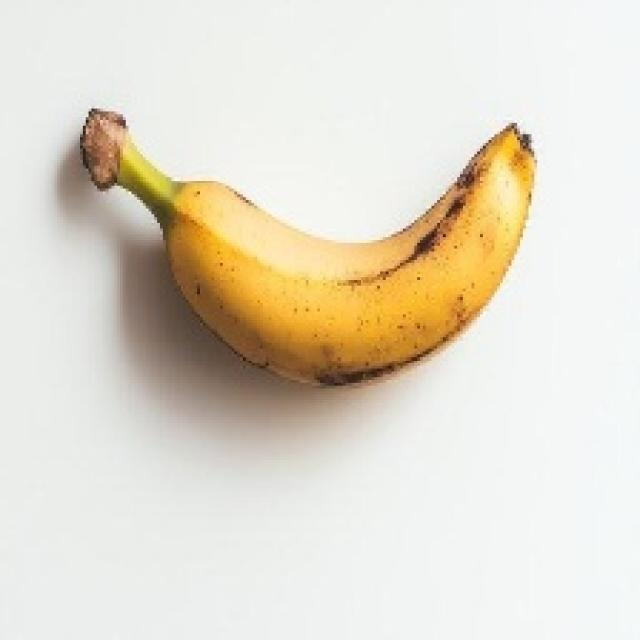Banana: (77, 106, 537, 386)
